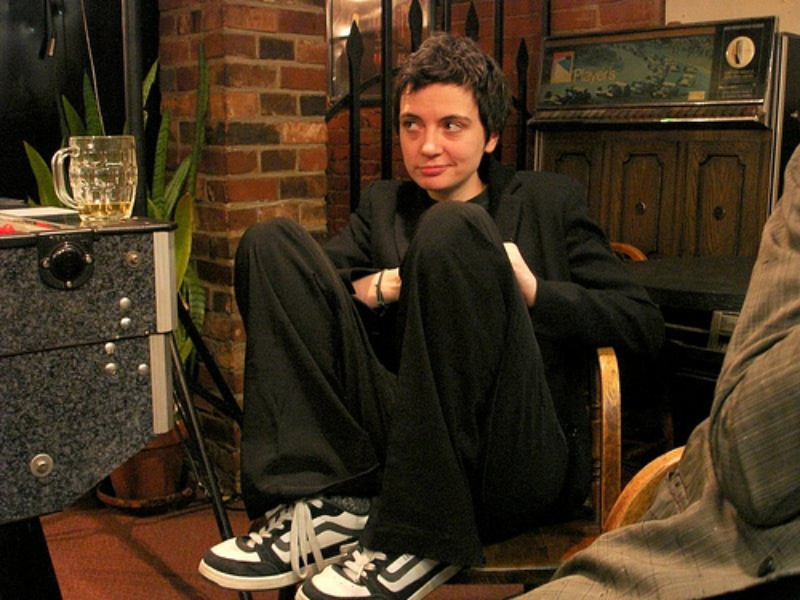person: (198, 31, 667, 600)
